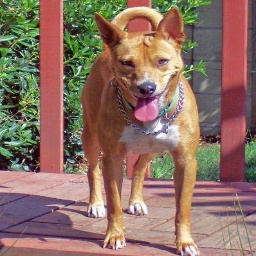dog: (84, 5, 202, 249)
